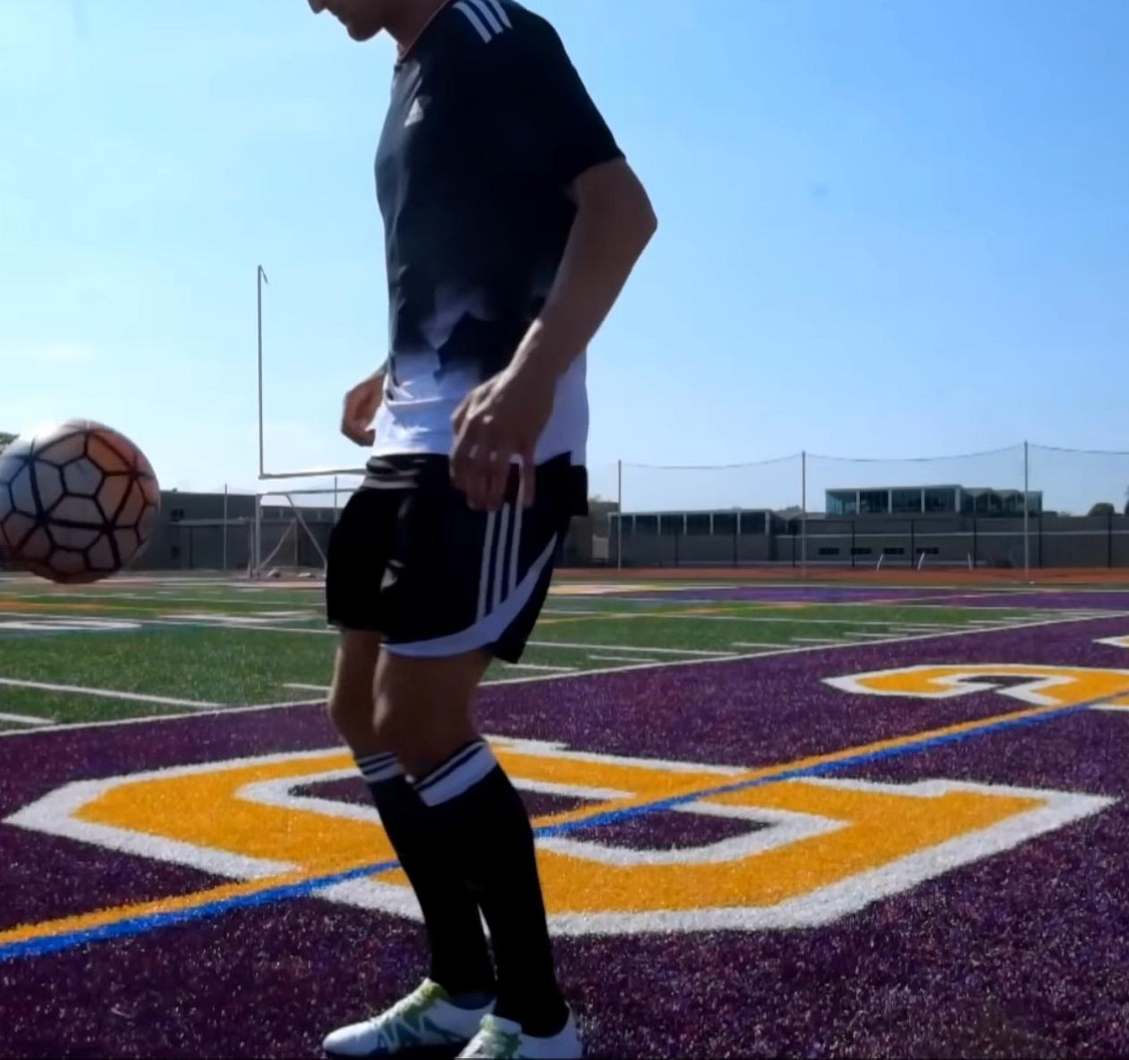ball: (0, 416, 165, 587)
foot: (324, 983, 493, 1060), (452, 999, 586, 1060)
person: (307, 0, 658, 1060)
